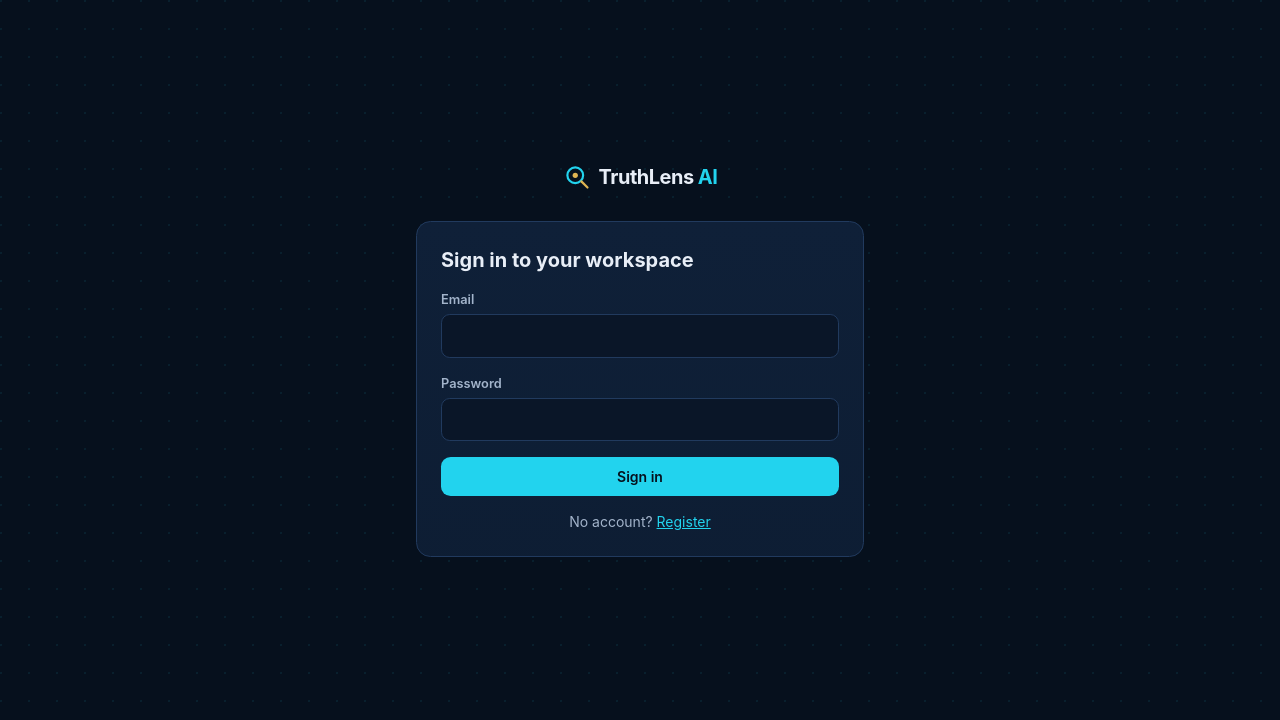
Scenario: Routing & auth › shows server error message on failed login
The width and height of the screenshot is (1280, 720).
Type "a@example.com" into the field labelled "Email" at coordinates (640, 336), box [441,314,839,358]
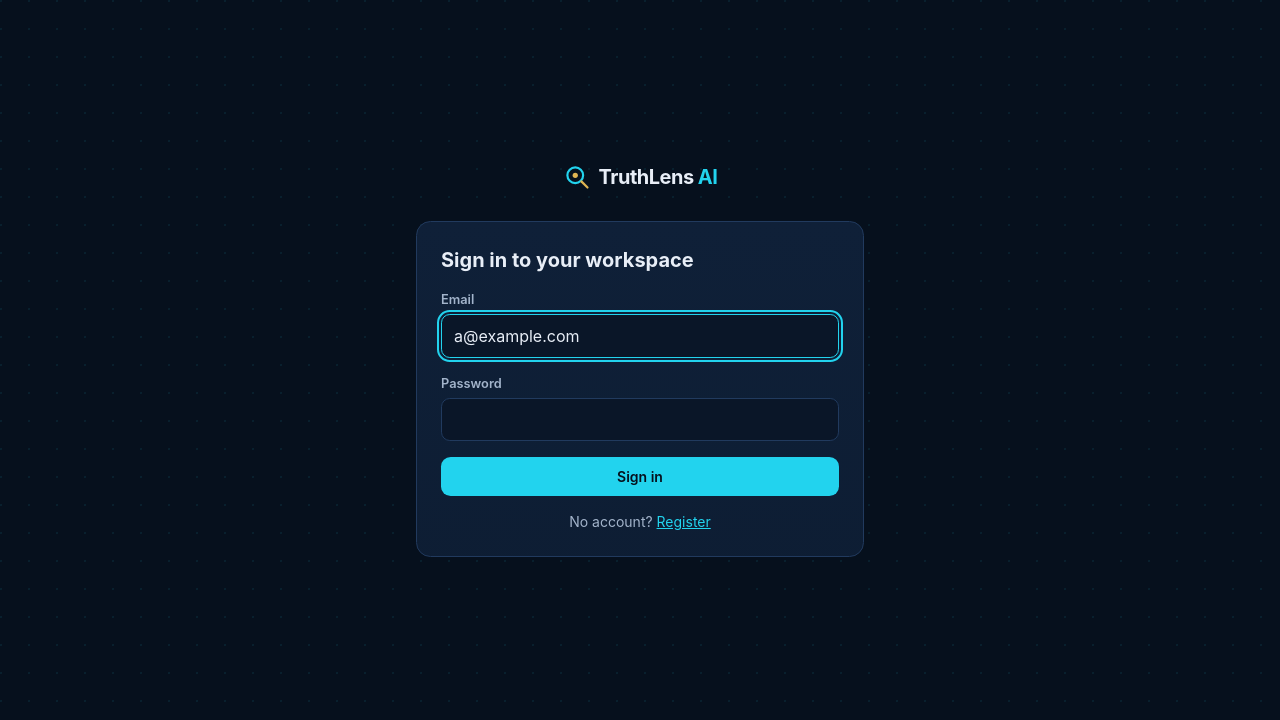
Type "nope" into the password field labelled "Password" at coordinates (640, 420), box [441,398,839,441]
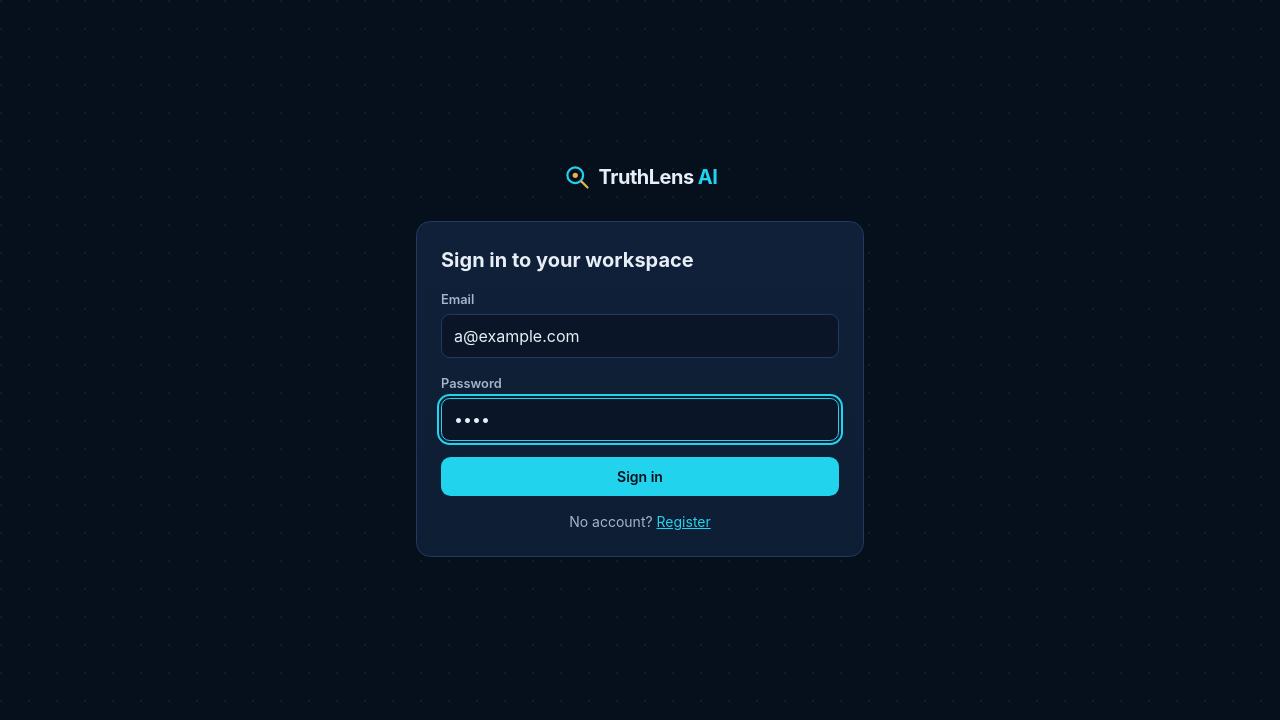
Click the button "Sign in" at coordinates (640, 477), box [441,457,839,496]
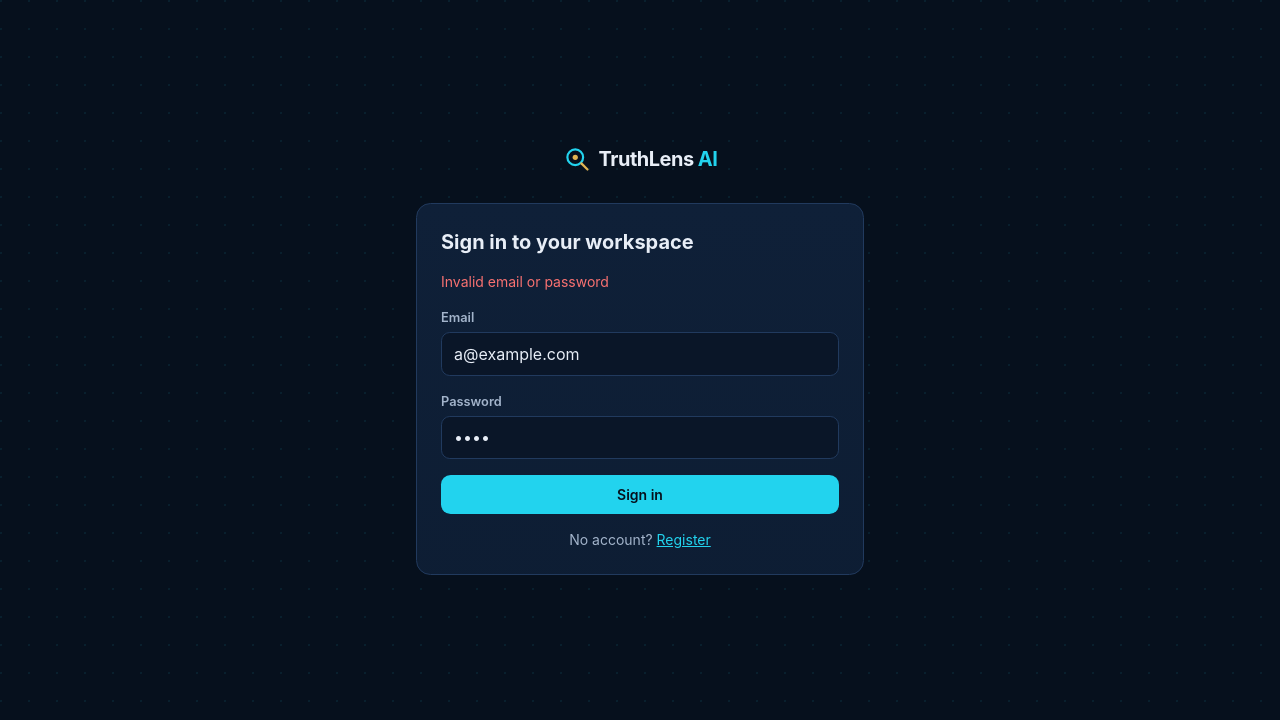
Expected: the message reads "Invalid email or password", [441,273,609,290]
